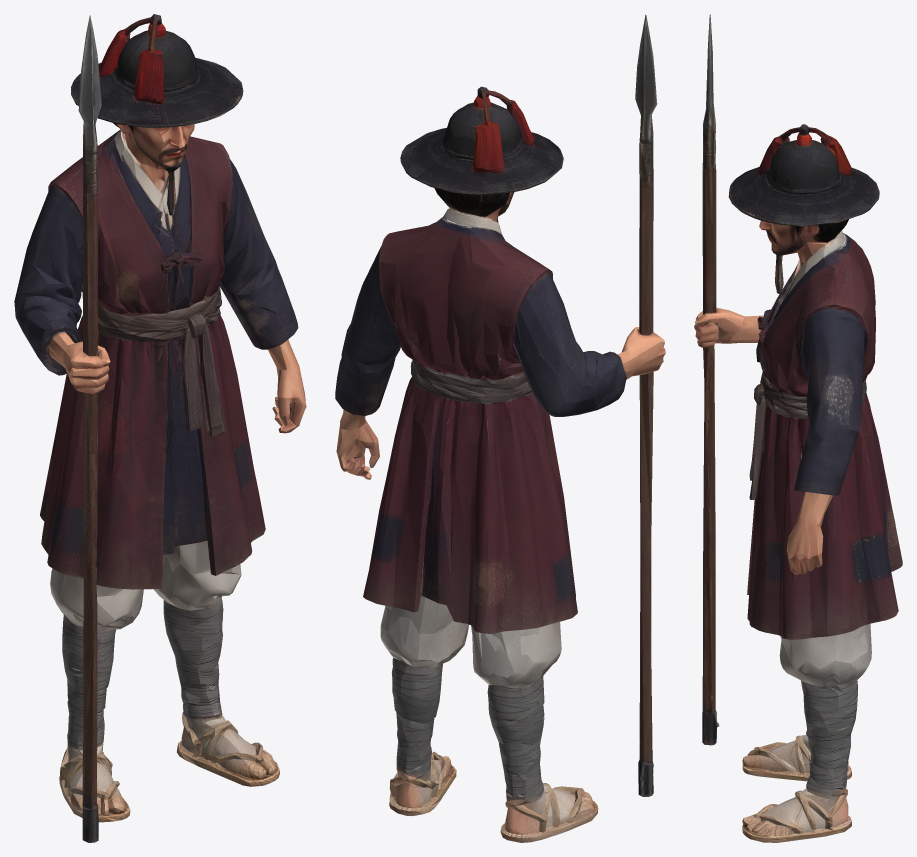
The model's file is rioter_spear.glb.
3 views of the same model, side by side, from view 1: azimuth 30°, elevation 25°; view 2: azimuth 150°, elevation 25°; view 3: azimuth 270°, elevation 25° (orthographic). The views are drawn at different scales.
Bounding box in the file's own units: 0.6874 × 1.9 × 0.4887.
1 material, 1 textured.
